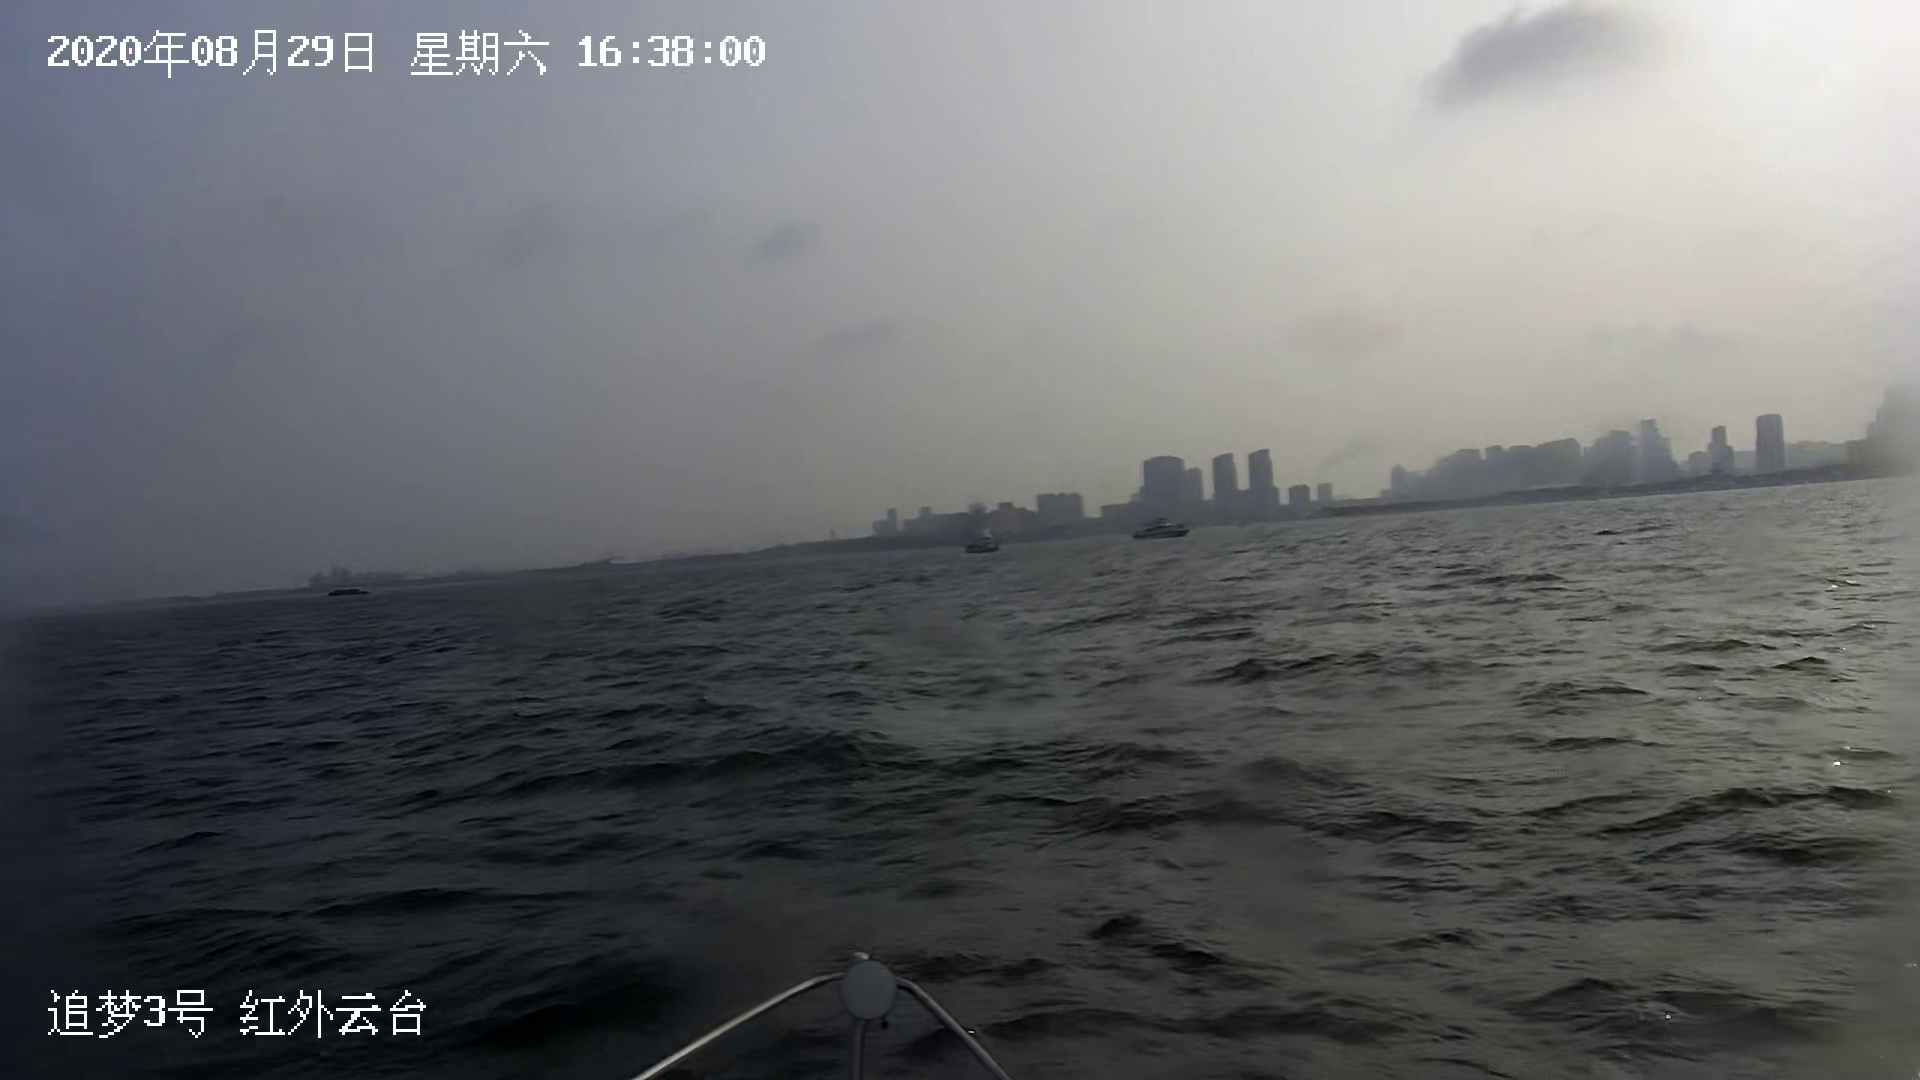barrier: (967, 529, 1006, 559), (1133, 517, 1191, 535), (326, 588, 373, 597)
coast: (145, 386, 1920, 607)
